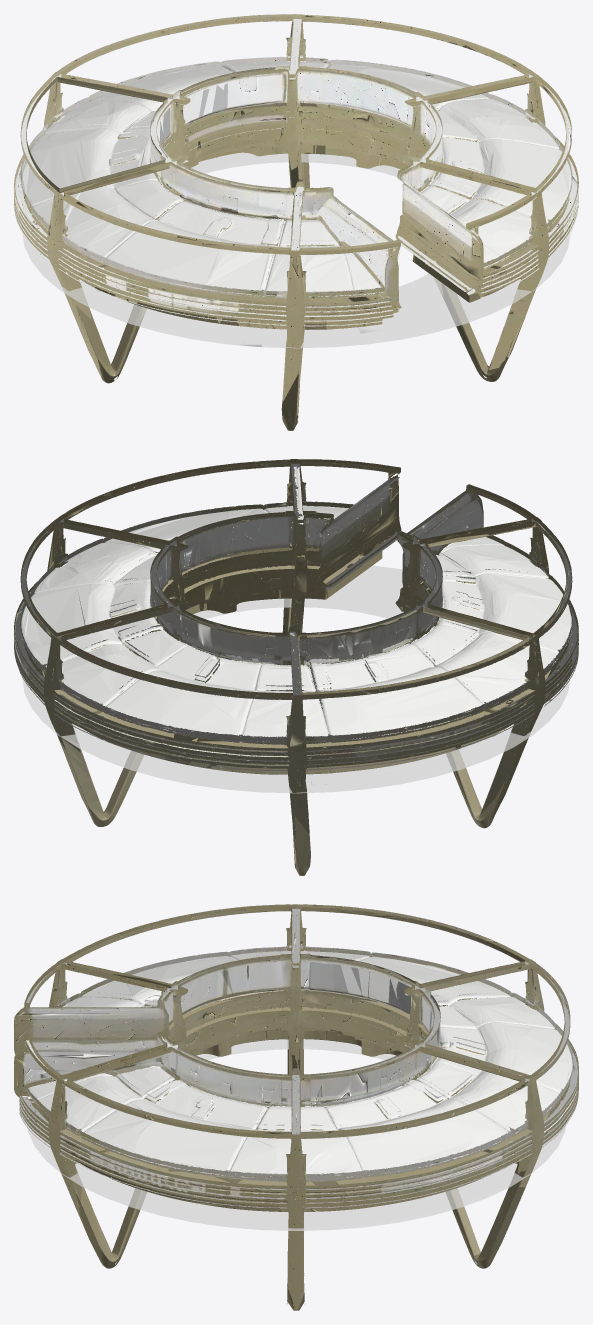
File: Kiosk_Centre_fast.glb
3 views of the same model, one above another, from view 1: azimuth 30°, elevation 25°; view 2: azimuth 150°, elevation 25°; view 3: azimuth 270°, elevation 25° (orthographic).
Visible parts, largest first — view 1: Mesh_0_1, Mesh_0_2, glass; view 2: Mesh_0_1, Mesh_0_2, glass; view 3: Mesh_0_1, Mesh_0_2, glass.
Part boxes in pixels (bbox=[...]): Mesh_0_1: bbox=[14, 14, 578, 430]; Mesh_0_2: bbox=[14, 19, 578, 423]; glass: bbox=[22, 152, 570, 348]; Mesh_0_1: bbox=[14, 459, 578, 875]; Mesh_0_2: bbox=[14, 463, 578, 868]; glass: bbox=[22, 565, 570, 793]; Mesh_0_1: bbox=[14, 904, 578, 1310]; Mesh_0_2: bbox=[18, 909, 578, 1304]; glass: bbox=[26, 1039, 566, 1230].
Bounding box in the file's own units: 61234 × 24911 × 62229.
Materials: 3 (1 with a texture image).
